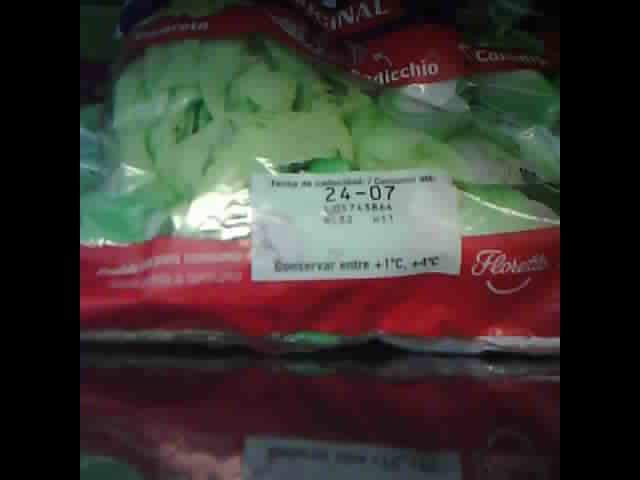florette: (82, 7, 557, 354)
